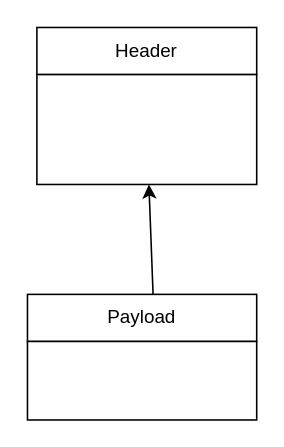
This 284x447 diagram has some shape labels left out. Here are the shapes that lost their labels. From the top down, the centre of each, then its label:
the point at 146,128: + opcode: unit8 + timestamp: int32 + payloadSize: unit32
the point at 141,380: +body: unit8[] + MD5Checksum: int32
